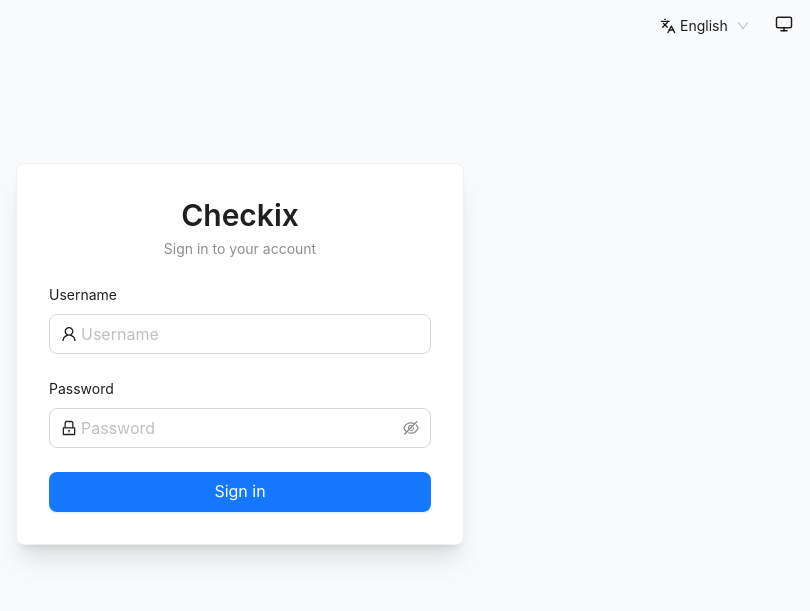
Test: LoginPage › shows error message on failed login
The width and height of the screenshot is (810, 611).
Type "testuser" into the field labelled "Username" at (250, 334), box 81,322 -> 419,346
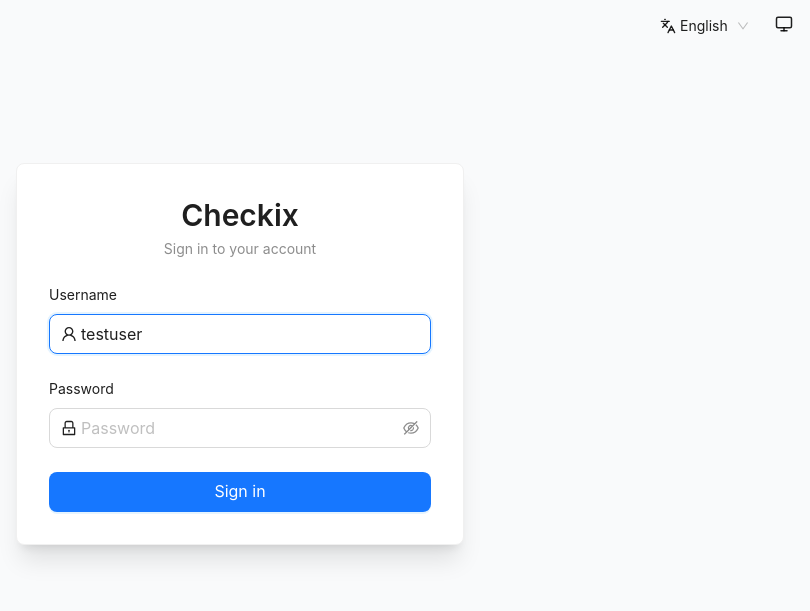
Type "wrongpassword" into the password field labelled "Password" at (240, 428), box 81,416 -> 399,440
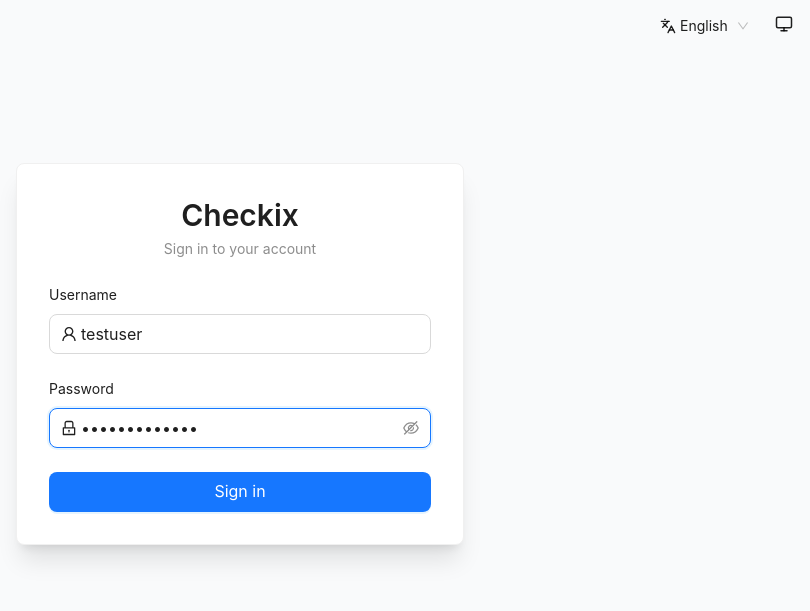
Click the button "Sign in" at (240, 492), box 49,472 -> 431,512
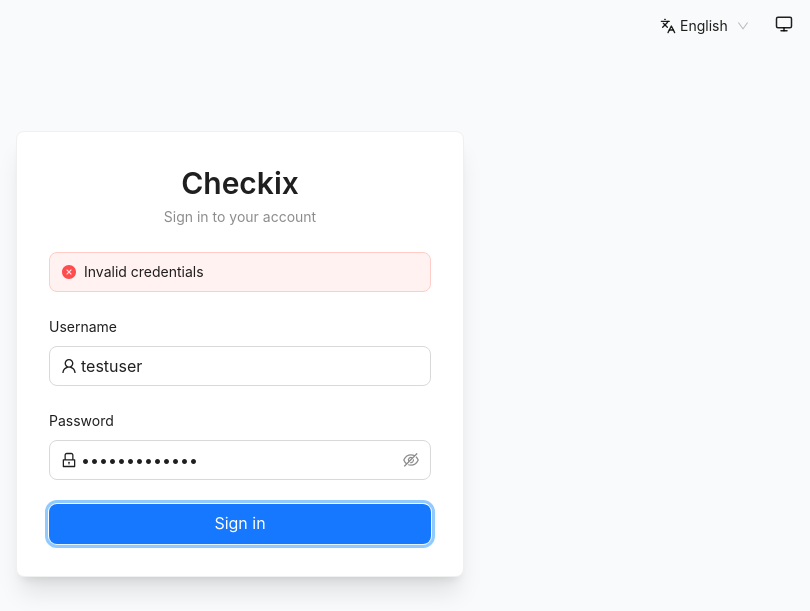
expect the text "Invalid credentials" is shown: met, box 84,263 -> 204,280
